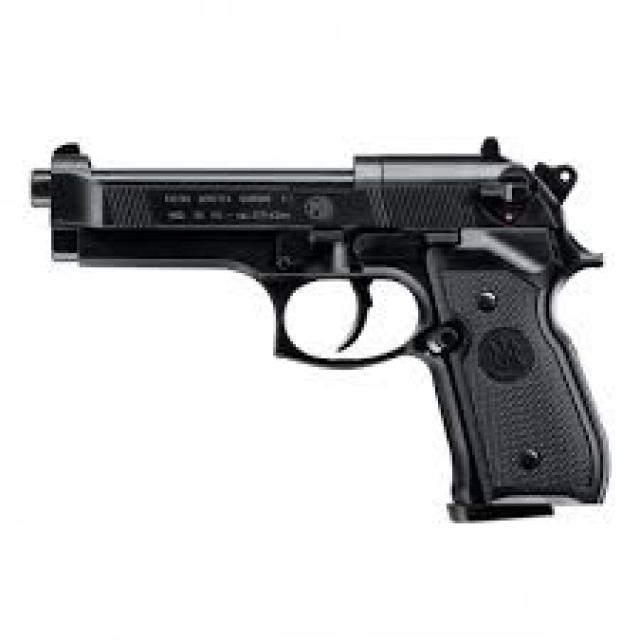pistol: (18, 136, 612, 533)
